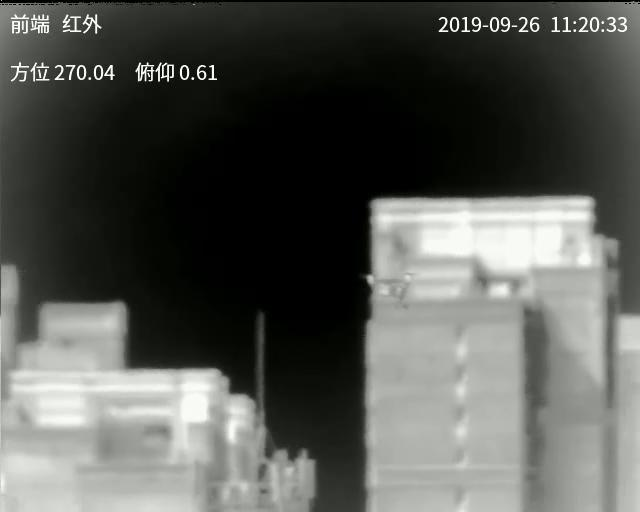uav: (362, 271, 413, 310)
